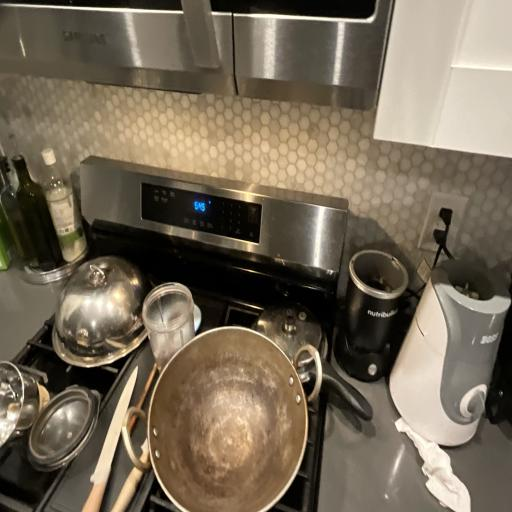Pan: (119, 311, 343, 512)
Stove: (7, 167, 373, 512)
knife: (105, 360, 184, 512), (89, 351, 145, 512)
